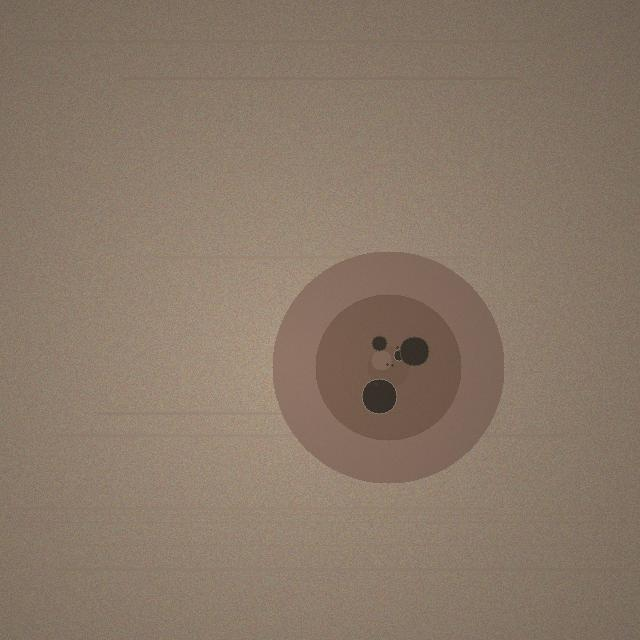shrinkage: (272, 251, 504, 483)
